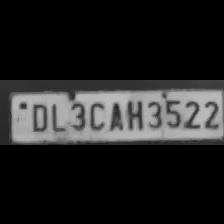2: (198, 96, 220, 130), (181, 96, 201, 130)
3: (66, 97, 86, 130), (146, 96, 162, 130)
5: (162, 96, 182, 128)
A: (106, 97, 124, 130)
C: (86, 97, 106, 130)
D: (28, 100, 48, 132)
H: (124, 96, 144, 130)
L: (48, 98, 66, 132)
